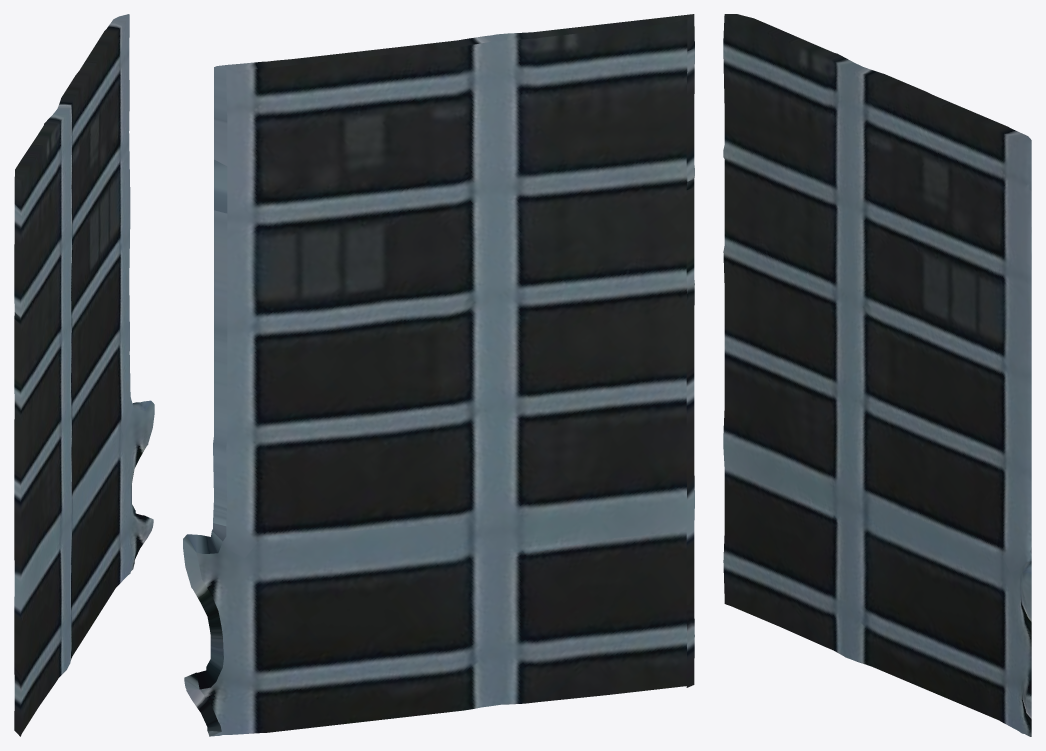
Rendered from z20-167790-405227-h1-yup-uvflip-v3-world.glb.
The picture shows the model from 3 angles, left to right: view 1: azimuth 30°, elevation 25°; view 2: azimuth 150°, elevation 25°; view 3: azimuth 270°, elevation 25°; orthographic projection. The views are drawn at different scales.
Size of the model in its own units: 12.2 by 23.24 by 11.
Materials: 1 (1 with a texture image).
